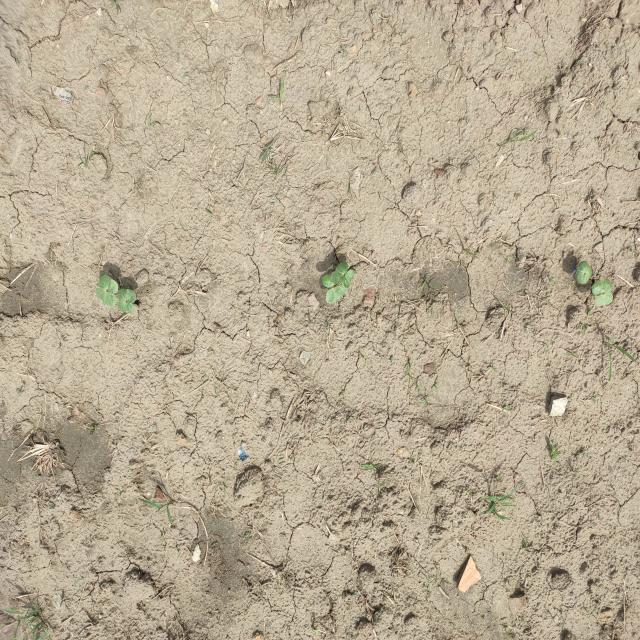seedling: (335, 263, 355, 289), (95, 286, 116, 307), (576, 261, 592, 284), (99, 274, 118, 293), (326, 285, 345, 303), (592, 280, 612, 296), (322, 271, 339, 288), (118, 289, 137, 304), (595, 293, 613, 306), (118, 301, 134, 313)
